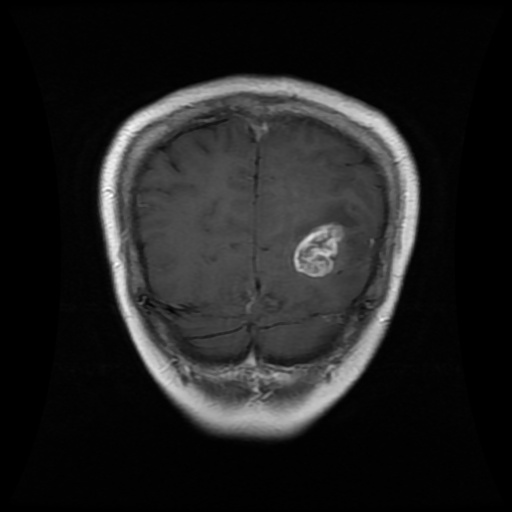glioma: (292, 202, 370, 277)
